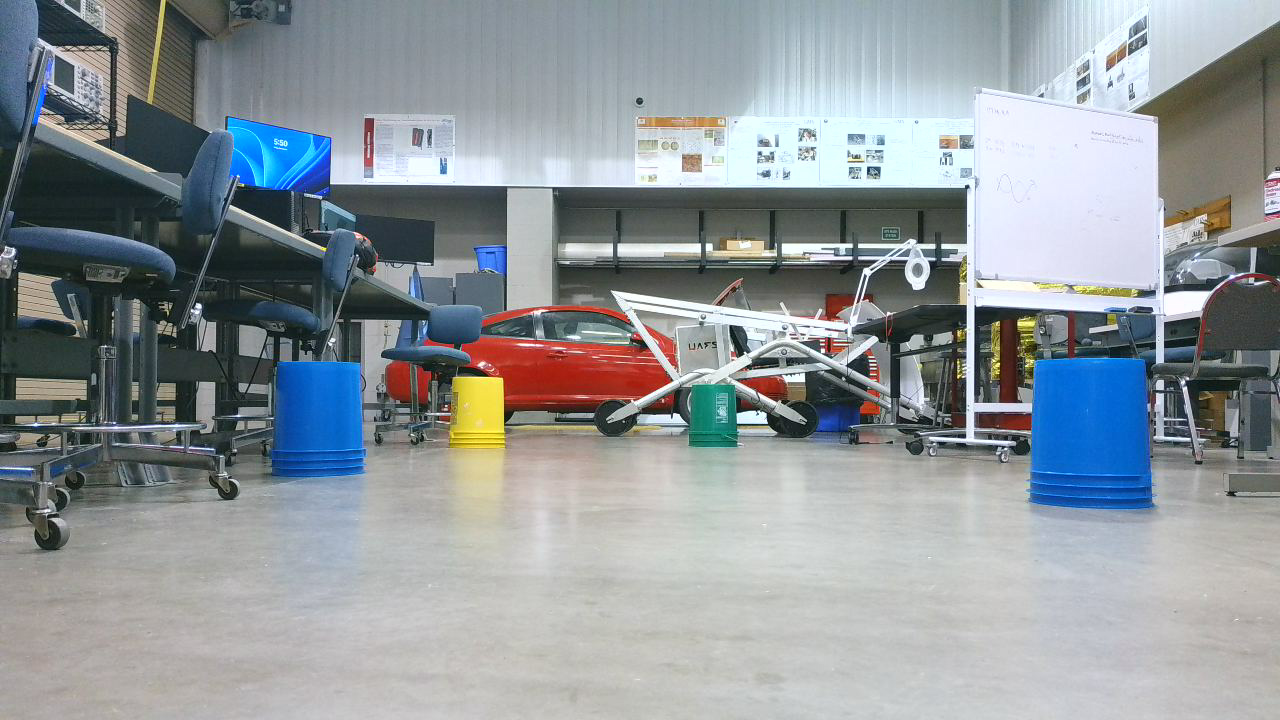blue_bucket: (1027, 358, 1169, 517), (270, 361, 376, 485)
green_bucket_barrier: (691, 385, 748, 455)
yellow_bucket: (453, 377, 515, 457)
